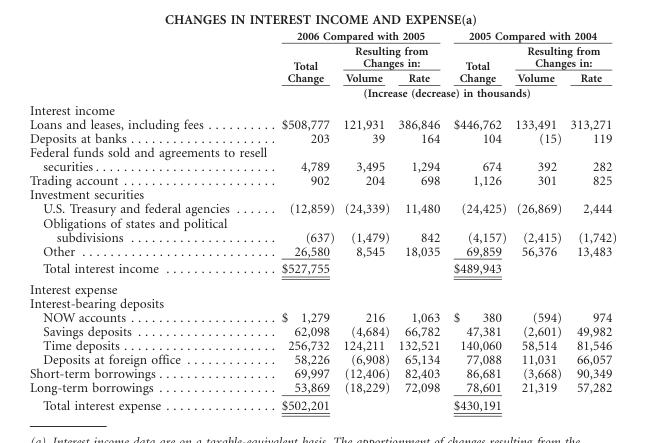table: (28, 29, 616, 412)
table column: (28, 29, 273, 412), (273, 29, 338, 412), (446, 29, 510, 412), (338, 29, 393, 412), (510, 29, 565, 412), (393, 29, 446, 412), (565, 29, 616, 412)
table column header: (28, 29, 616, 101)
table projected row header: (28, 278, 616, 296), (28, 101, 616, 117), (28, 187, 616, 201), (28, 296, 616, 310)
table row: (28, 145, 616, 173), (28, 215, 616, 243), (28, 42, 616, 69), (28, 259, 616, 278), (28, 278, 616, 296), (28, 69, 616, 85), (28, 85, 616, 101), (28, 101, 616, 117), (28, 243, 616, 259), (28, 380, 616, 396), (28, 396, 616, 412), (28, 117, 616, 131), (28, 131, 616, 145), (28, 173, 616, 187), (28, 187, 616, 201), (28, 201, 616, 215), (28, 296, 616, 310), (28, 310, 616, 324), (28, 324, 616, 338), (28, 338, 616, 352), (28, 352, 616, 366), (28, 366, 616, 380), (28, 29, 616, 42)
table spanning cell: (273, 85, 616, 101), (338, 42, 446, 69), (510, 42, 616, 69), (273, 42, 338, 85), (446, 42, 510, 85), (273, 29, 446, 42), (446, 29, 616, 42)
